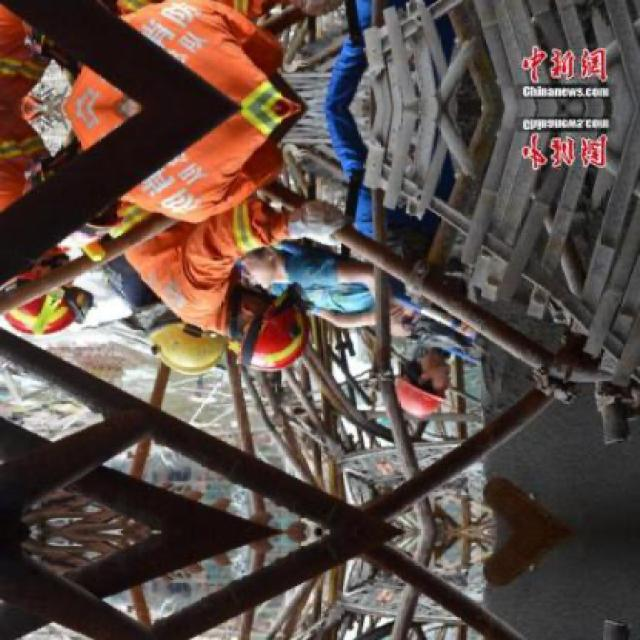con casco: (216, 288, 334, 402), (125, 290, 262, 387), (6, 267, 100, 348), (387, 374, 464, 424)
